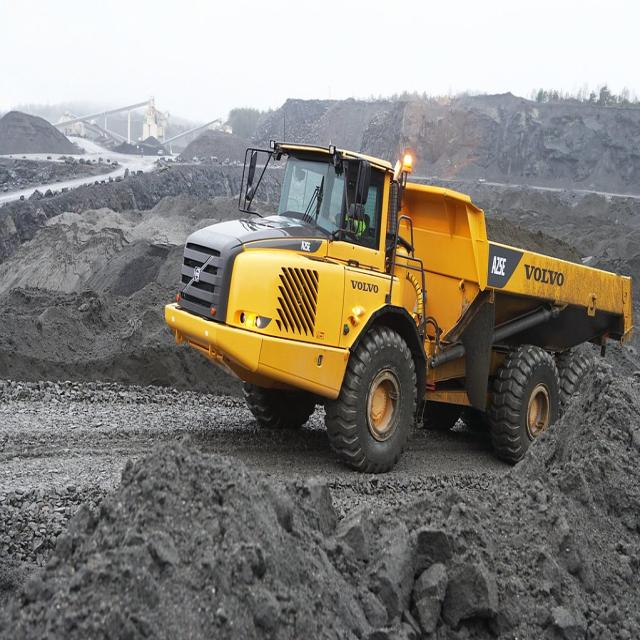dump_truck: (163, 129, 640, 489)
